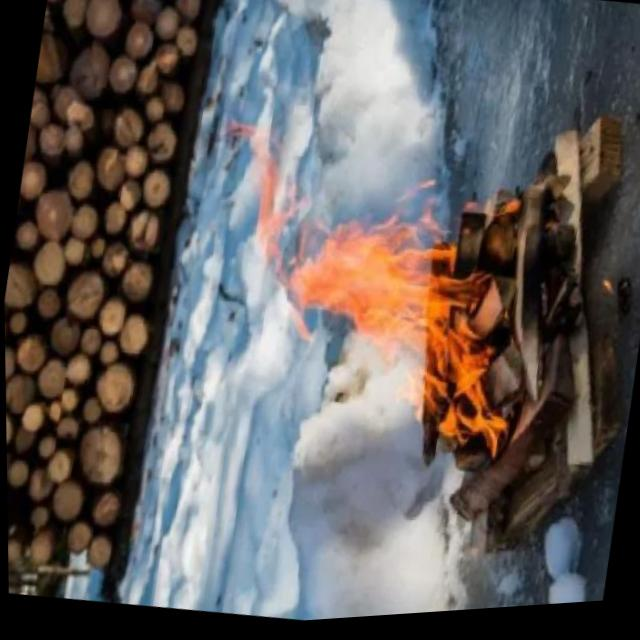Fire: (0, 0, 640, 640), (163, 99, 561, 485)
